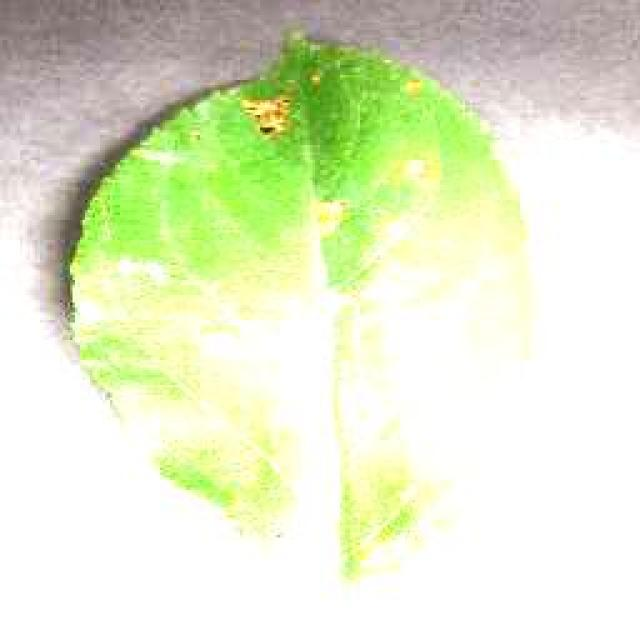apple cedar apple rust: (57, 25, 535, 580)
